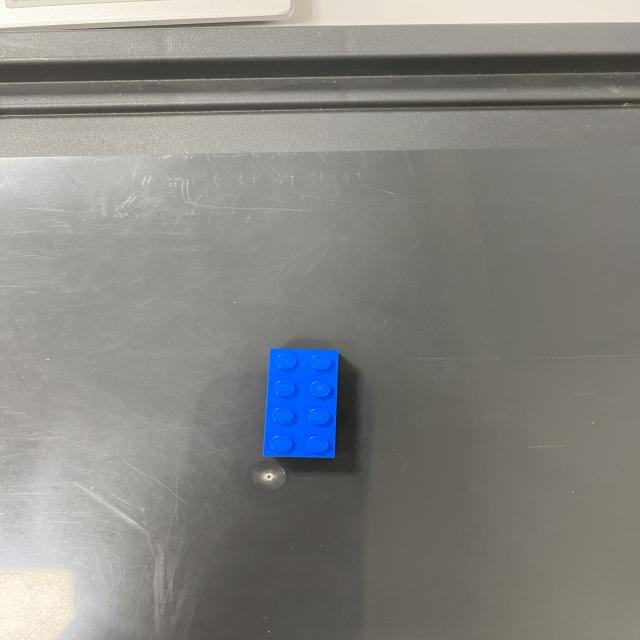C4x2x1: (262, 346, 344, 457)
